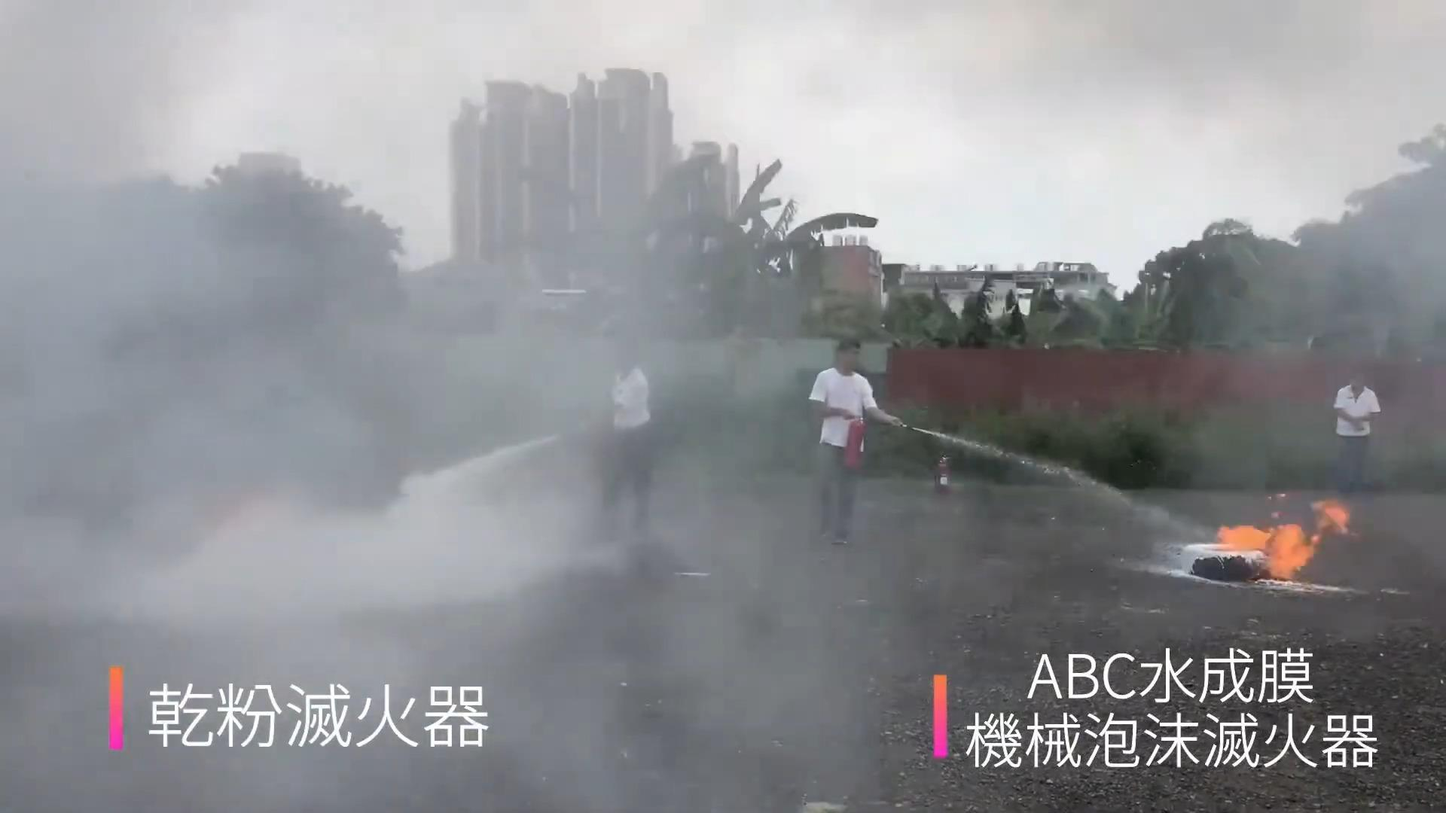FireExtinguisher: (840, 413, 873, 479)
